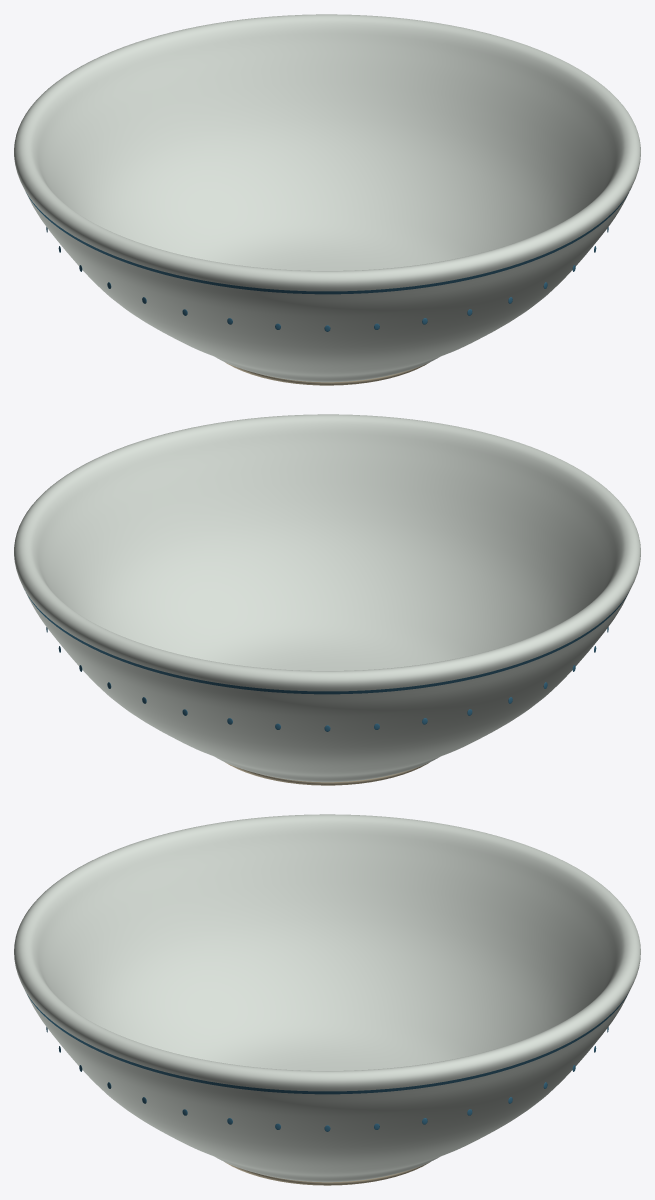
Rendered from rice_bowl.glb.
3 views of the same model, one above another, from view 1: azimuth 30°, elevation 25°; view 2: azimuth 150°, elevation 25°; view 3: azimuth 270°, elevation 25° (orthographic).
Visible parts, largest first — view 1: V15_Porcelain, V15_CreamPaint.003; view 2: V15_Porcelain, V15_CreamPaint.003; view 3: V15_Porcelain, V15_CreamPaint.003.
Boxes of the visible parts, x1=… form: V15_Porcelain: x1=14, y1=14, x2=640, y2=382; V15_CreamPaint.003: x1=225, y1=362, x2=429, y2=385; V15_Porcelain: x1=14, y1=414, x2=640, y2=782; V15_CreamPaint.003: x1=225, y1=762, x2=429, y2=785; V15_Porcelain: x1=14, y1=814, x2=640, y2=1182; V15_CreamPaint.003: x1=225, y1=1162, x2=429, y2=1185.
Size of the model in its own units: 1.03 by 0.347 by 1.03.
